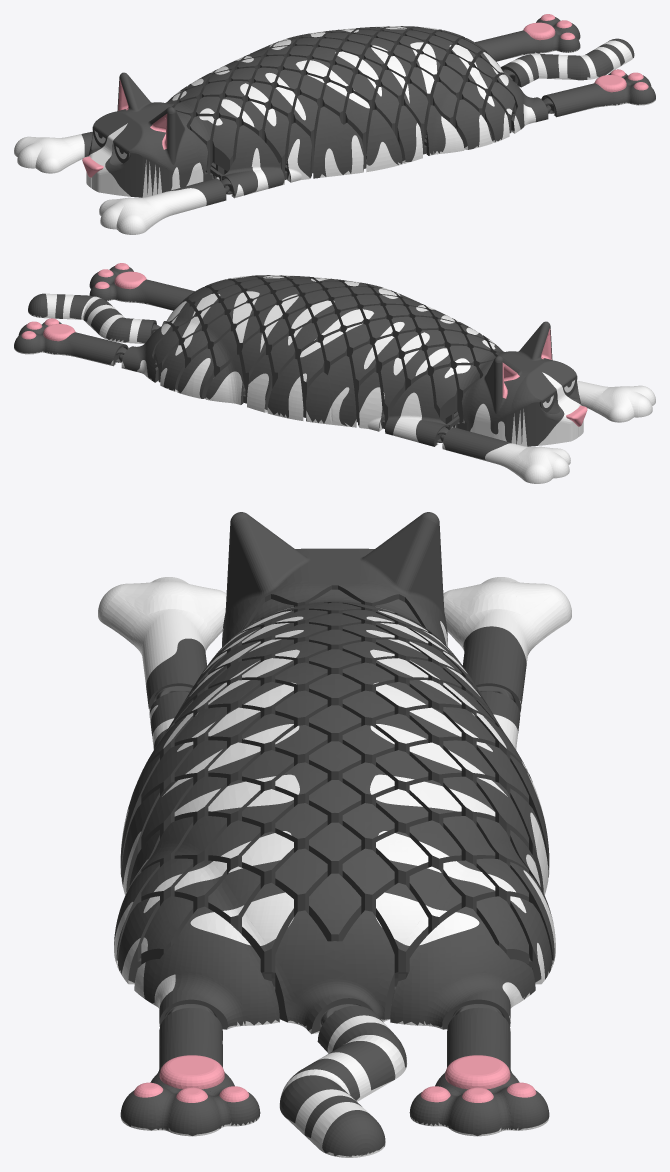
File: gato_flexi.glb
3 renders of one model, top to bottom at view 1: azimuth 30°, elevation 25°; view 2: azimuth 150°, elevation 25°; view 3: azimuth 270°, elevation 25°, orthographic. The views are drawn at different scales.
Parts seen in each view (by area): view 1: negro, blanco, rosado; view 2: negro, blanco, rosado; view 3: negro, blanco, rosado.
Boxes of the visible parts, x1,y1,x2,y2 form: negro: (81,17,655,205); blanco: (14,26,655,234); rosado: (82,14,648,177); negro: (14,266,581,459); blanco: (14,275,655,483); rosado: (21,263,587,426); negro: (114,512,554,1156); blanco: (98,577,571,1157); rosado: (133,1055,536,1102).
Size of the model in its own units: 0.2227 by 0.0324 by 0.0795.
